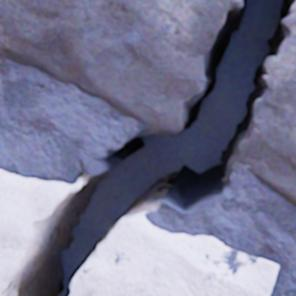broken_brick: (0, 0, 242, 132), (70, 214, 278, 295), (233, 2, 295, 206), (0, 169, 76, 295)
crack: (2, 0, 295, 295)
